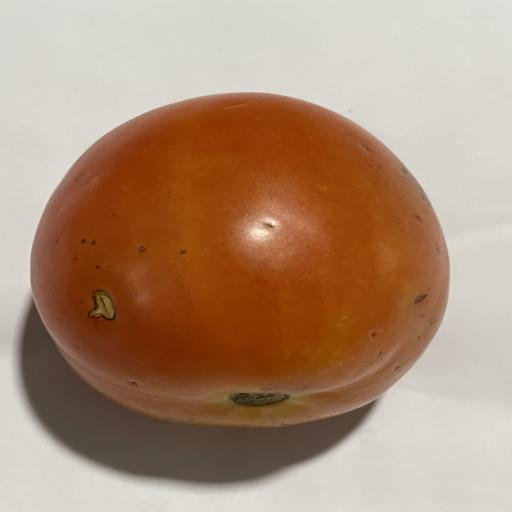ripe: (31, 93, 449, 427), (249, 219, 278, 241)
